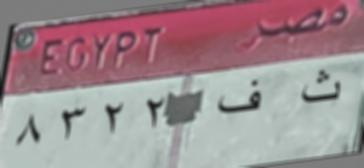2: (100, 99, 131, 133), (141, 91, 166, 133)
3: (58, 99, 88, 141)
8: (12, 111, 49, 151)
faa: (214, 77, 265, 118)
thaa: (298, 67, 345, 111)
